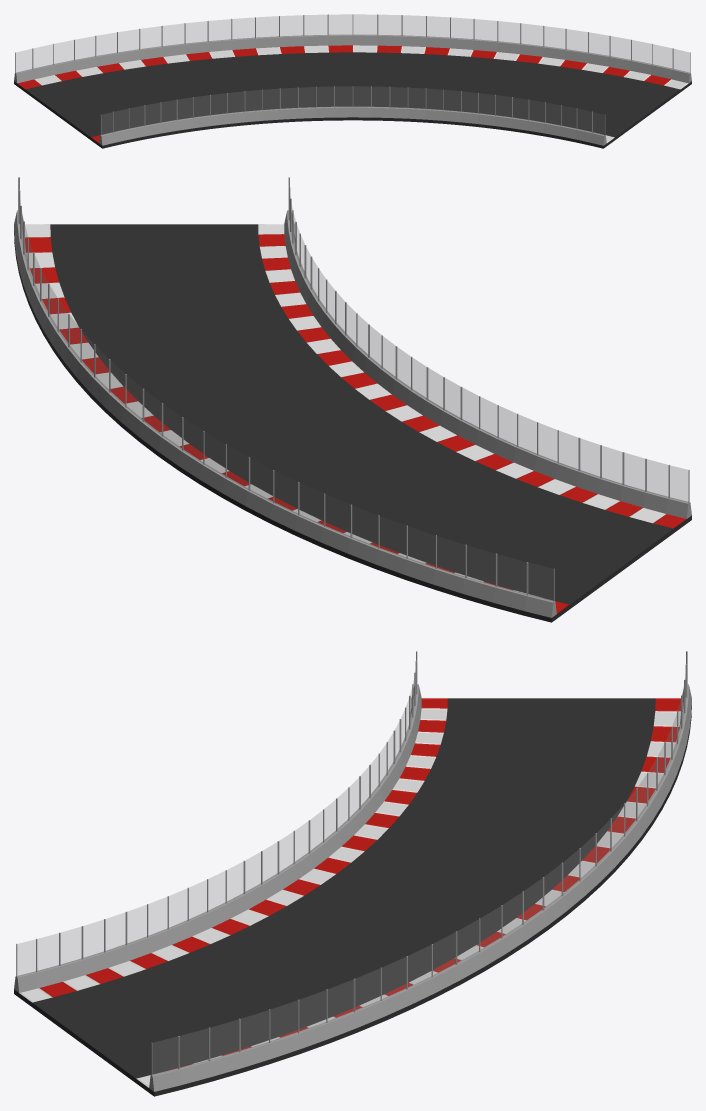
The model's file is track_curve_right_wide_borders_low.glb.
3 renders of one model, top to bottom at view 1: azimuth 30°, elevation 25°; view 2: azimuth 150°, elevation 25°; view 3: azimuth 270°, elevation 25°, orthographic. The views are drawn at different scales.
Parts seen in each view (by area): view 1: CurveRightWide.002; view 2: CurveRightWide.002; view 3: CurveRightWide.002.
Boxes of the visible parts, x1,y1,x2,y2 form: CurveRightWide.002: (14,14,691,148); CurveRightWide.002: (14,177,691,622); CurveRightWide.002: (14,651,691,1096).
Size of the model in its own units: 35.85 by 2.2 by 26.1.
